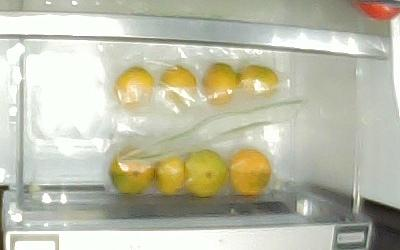tangerine_vinyl: (110, 146, 155, 196), (185, 148, 229, 199), (227, 148, 271, 195), (114, 66, 156, 108), (202, 62, 240, 106), (160, 66, 198, 107), (239, 64, 279, 99), (154, 155, 184, 197)
